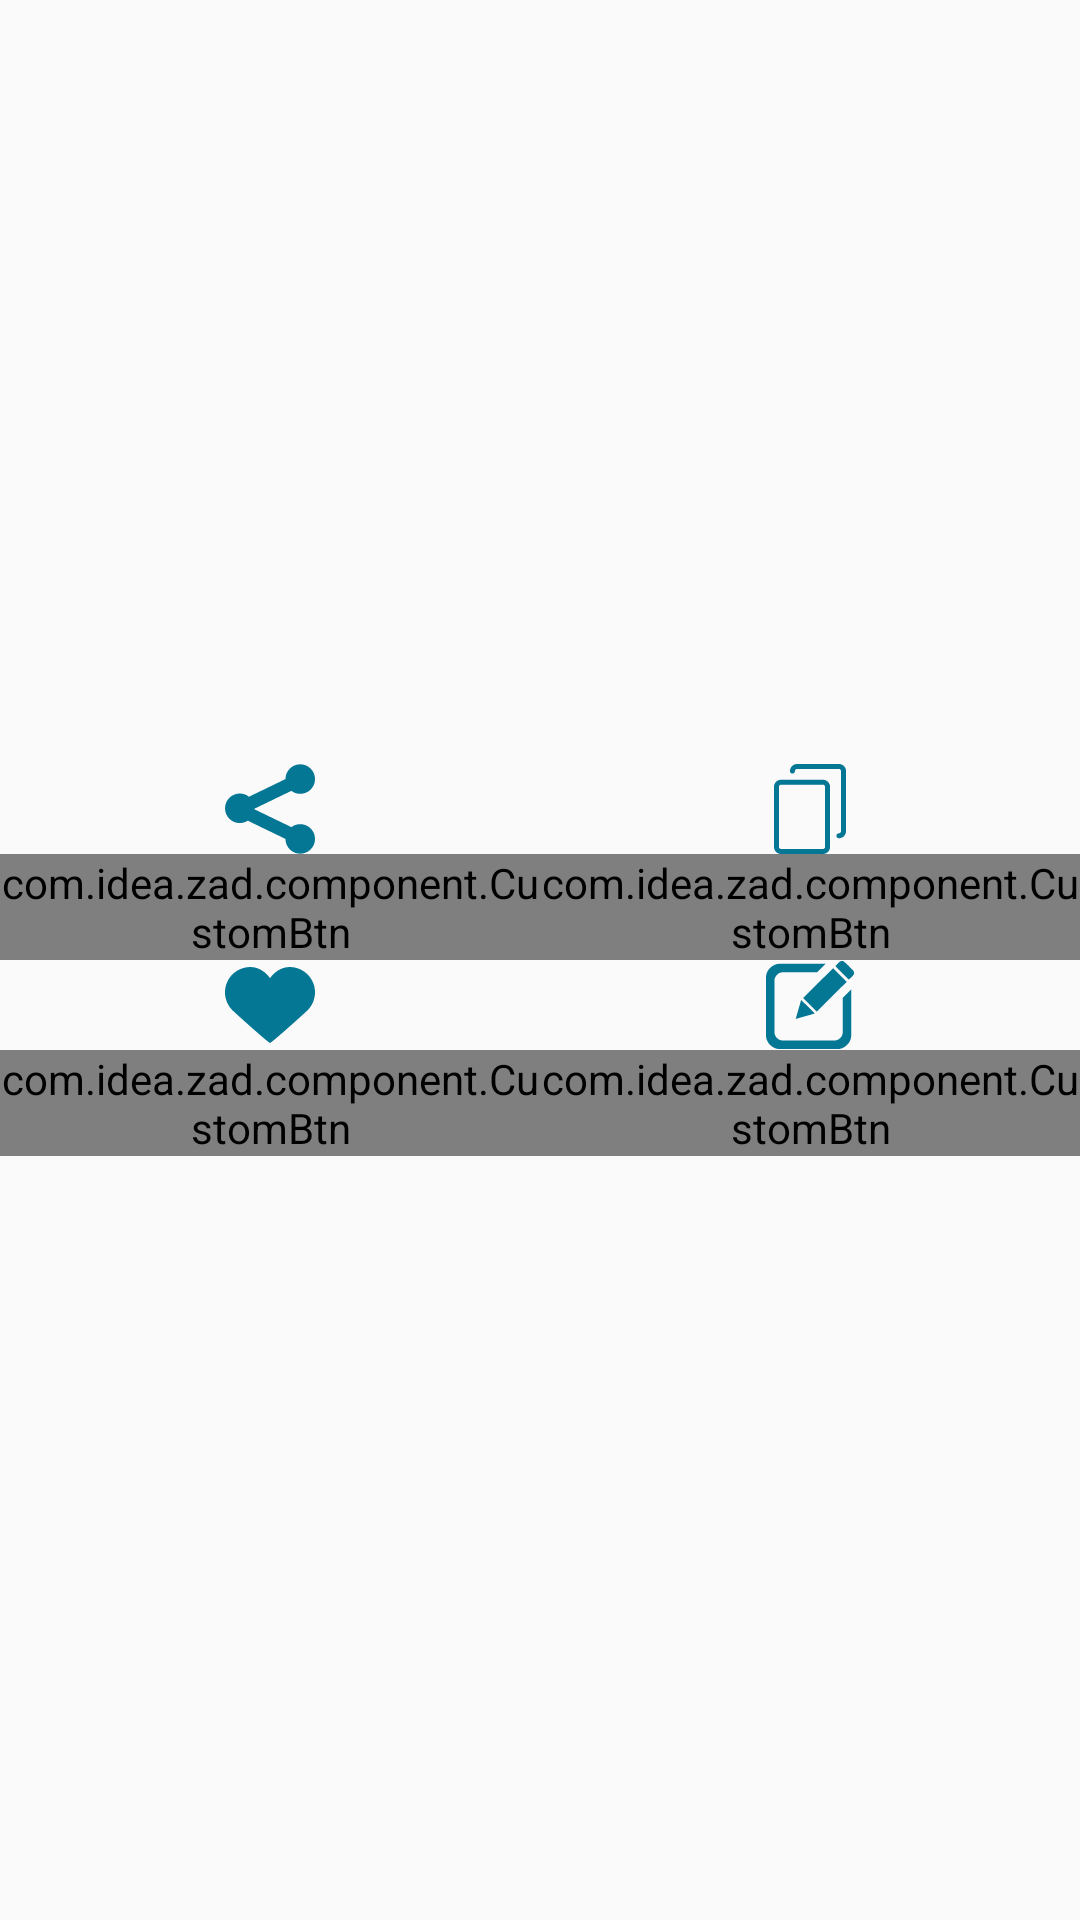

Where icons sit on this 1080px x 1920px app screen, as (x1, y1, x2, y2):
edit: (766, 961, 854, 1049)
favorite on: (225, 967, 315, 1043)
share: (225, 764, 315, 854)
